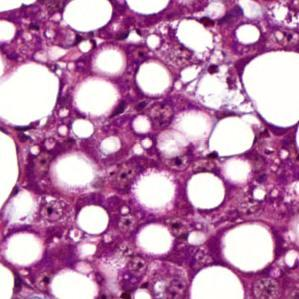steatosis: (220, 225, 278, 269), (137, 61, 173, 98), (185, 175, 225, 208), (78, 204, 110, 235)
